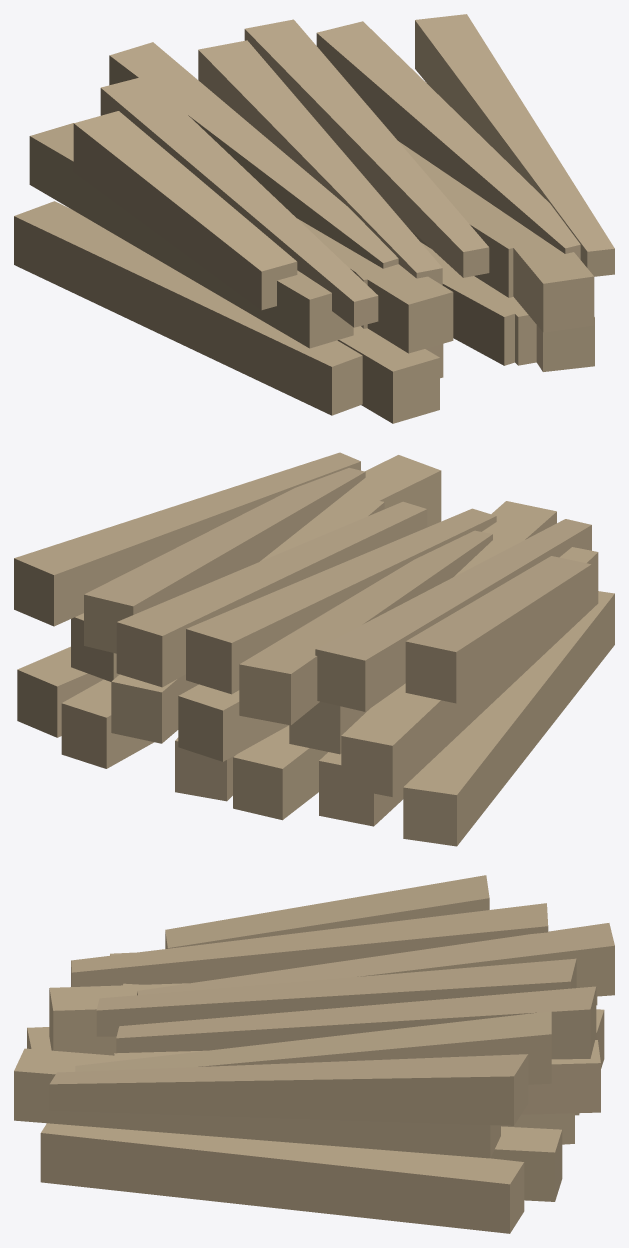
File: raw fries.fbx
The picture shows the model from 3 angles, top to bottom: view 1: azimuth 30°, elevation 25°; view 2: azimuth 150°, elevation 25°; view 3: azimuth 270°, elevation 25°; orthographic projection. The views are drawn at different scales.
Parts seen in each view (by area): view 1: Fries; view 2: Fries; view 3: Fries.
Boxes of the visible parts, x1,y1,x2,y2 form: Fries: (14,14,614,423); Fries: (14,452,614,846); Fries: (14,875,614,1233).
Size of the model in its own units: 46.56 by 16.04 by 54.67.
